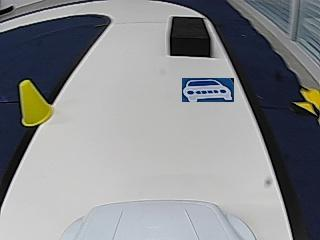block: (170, 16, 210, 57)
cone: (19, 81, 55, 125)
